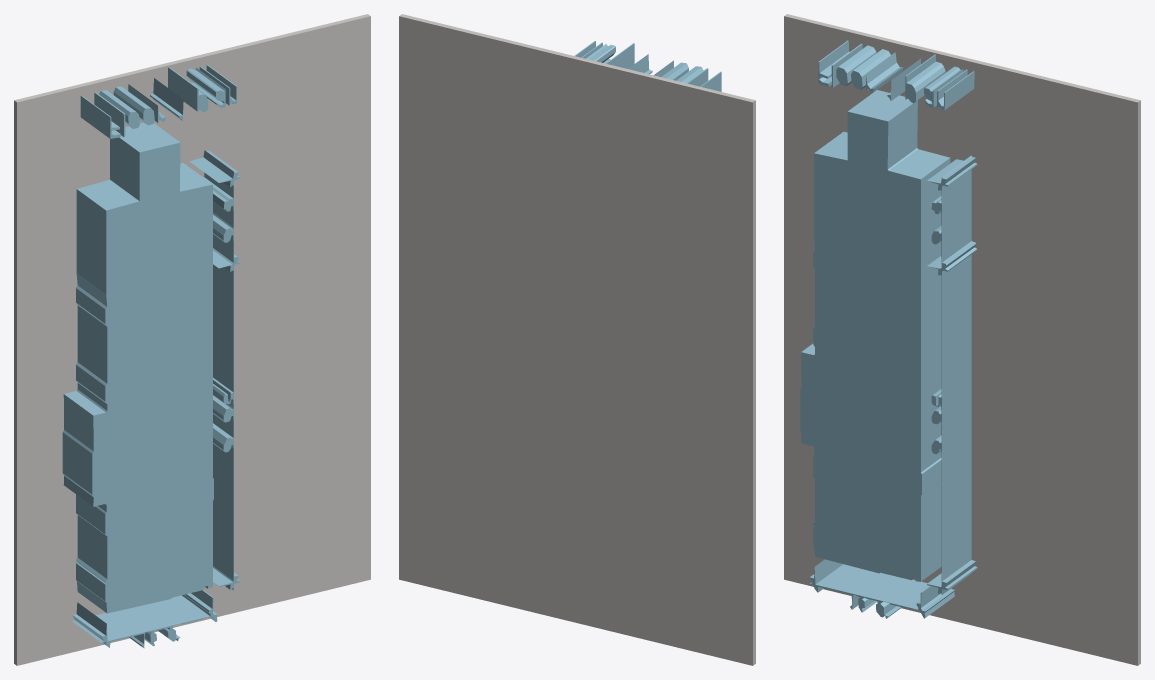
The picture shows the model from 3 angles, left to right: view 1: azimuth 30°, elevation 25°; view 2: azimuth 150°, elevation 25°; view 3: azimuth 330°, elevation 25°; orthographic projection.
Visible parts, largest first — view 1: world; view 2: world; view 3: world.
Boxes of the visible parts, box(x1,y1,x2,y2) form: world: box(14, 14, 370, 665); world: box(399, 14, 755, 665); world: box(784, 14, 1140, 665).
Size of the model in its own units: 10.23 by 15.57 by 1.63.
